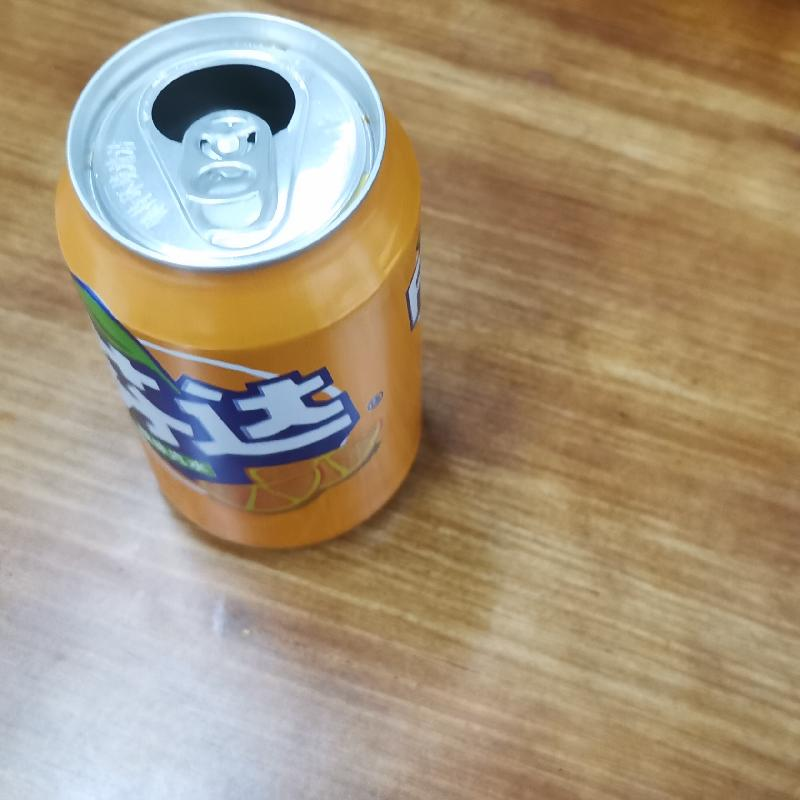cans: (50, 9, 426, 553)
